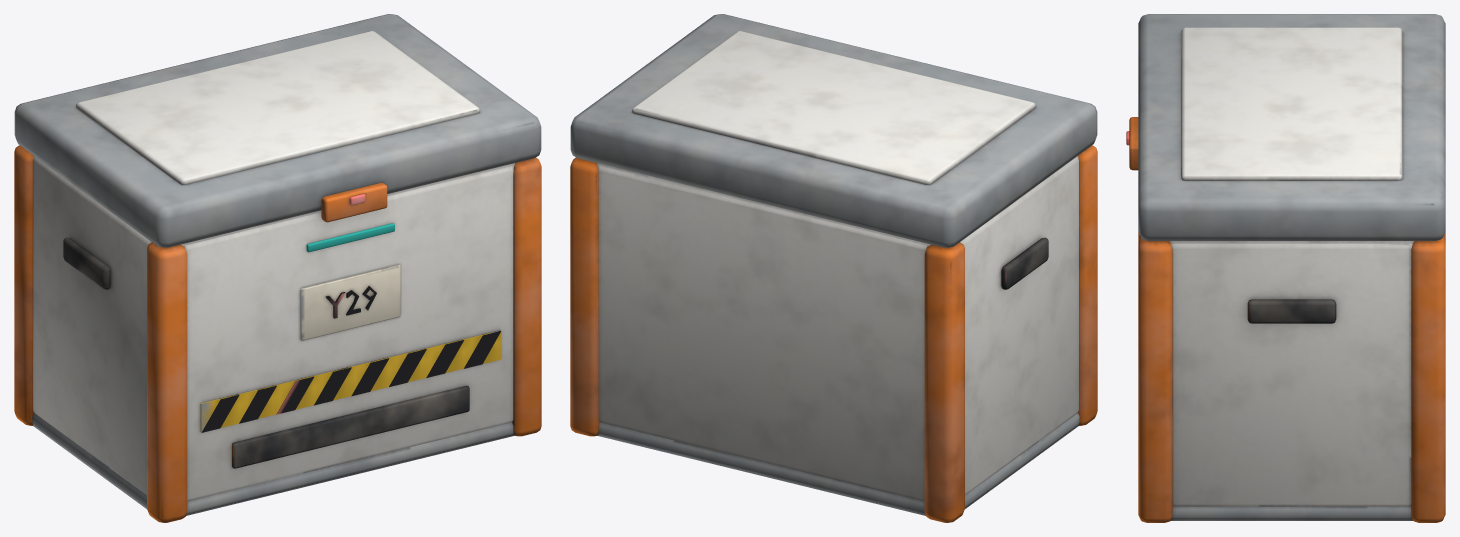
The model's file is loot_crate.fbx.
The picture shows the model from 3 angles, left to right: view 1: azimuth 30°, elevation 25°; view 2: azimuth 150°, elevation 25°; view 3: azimuth 270°, elevation 25°; orthographic projection. The views are drawn at different scales.
Parts seen in each view (by area): view 1: Body, Lid, Glow; view 2: Body, Lid; view 3: Body, Lid.
Part boxes in pixels (x1,y1,x2,y2): Body: [14, 145, 541, 522]; Lid: [14, 14, 541, 247]; Glow: [306, 223, 394, 252]; Body: [570, 145, 1097, 522]; Lid: [570, 14, 1097, 247]; Body: [1138, 232, 1445, 522]; Lid: [1126, 14, 1445, 240].
Bounding box in the file's own units: 3.12 × 2.46 × 2.16.
1 material, 1 textured.
